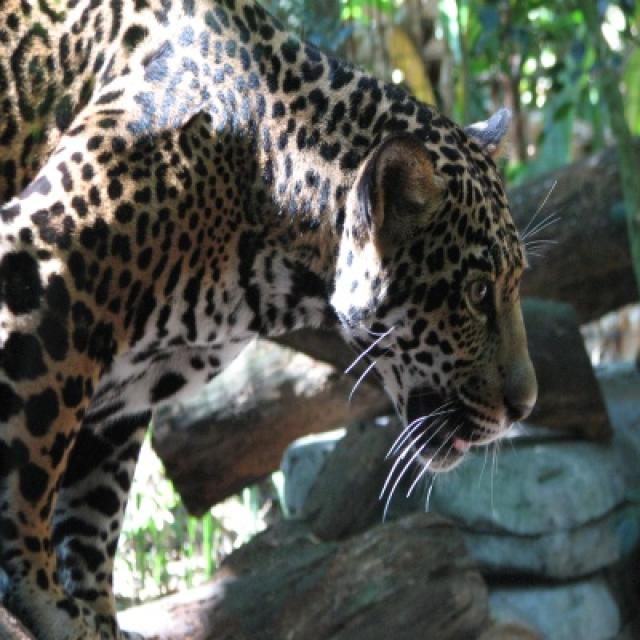Jaguar: (0, 0, 539, 638)
